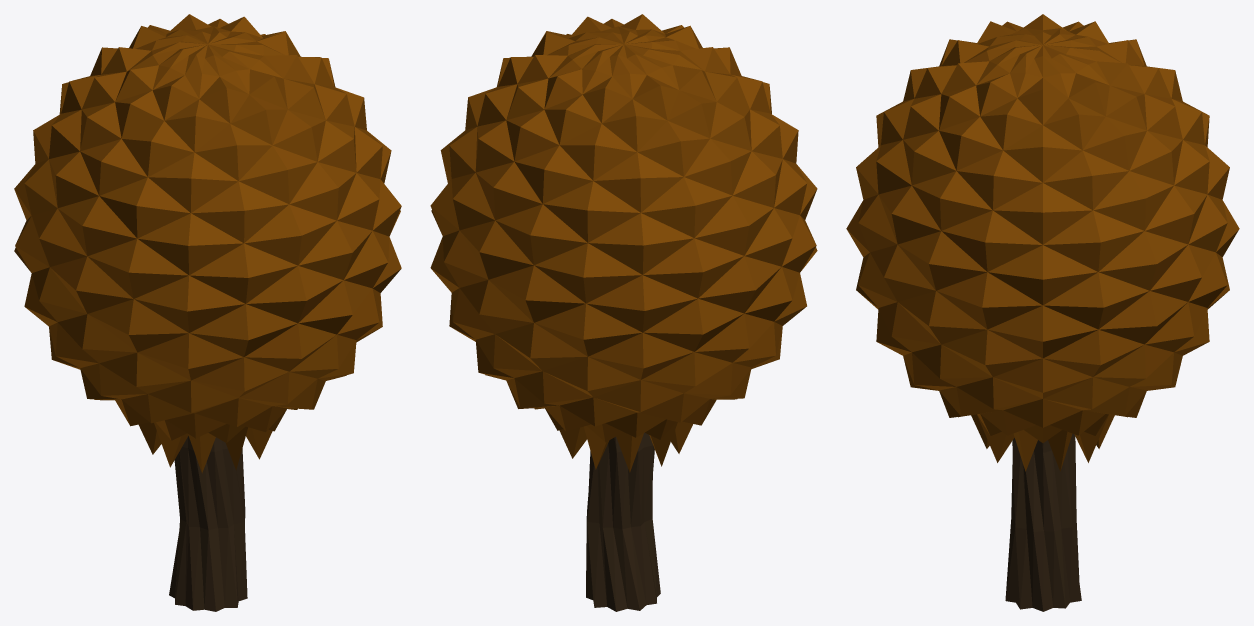
The model's file is NormalTree_Orange.fbx.
3 renders of one model, left to right at view 1: azimuth 30°, elevation 25°; view 2: azimuth 150°, elevation 25°; view 3: azimuth 270°, elevation 25°, orthographic.
Visible parts, largest first — view 1: pSphere1, pCylinder1; view 2: pSphere1, pCylinder1; view 3: pSphere1, pCylinder1.
Part boxes in pixels (bbox=[...]): pSphere1: bbox=[14, 14, 401, 473]; pCylinder1: bbox=[169, 436, 247, 611]; pSphere1: bbox=[430, 14, 817, 472]; pCylinder1: bbox=[586, 432, 660, 611]; pSphere1: bbox=[846, 14, 1239, 471]; pCylinder1: bbox=[1005, 433, 1081, 611].
Bounding box in the file's own units: 11.59 × 18.17 × 11.73.
